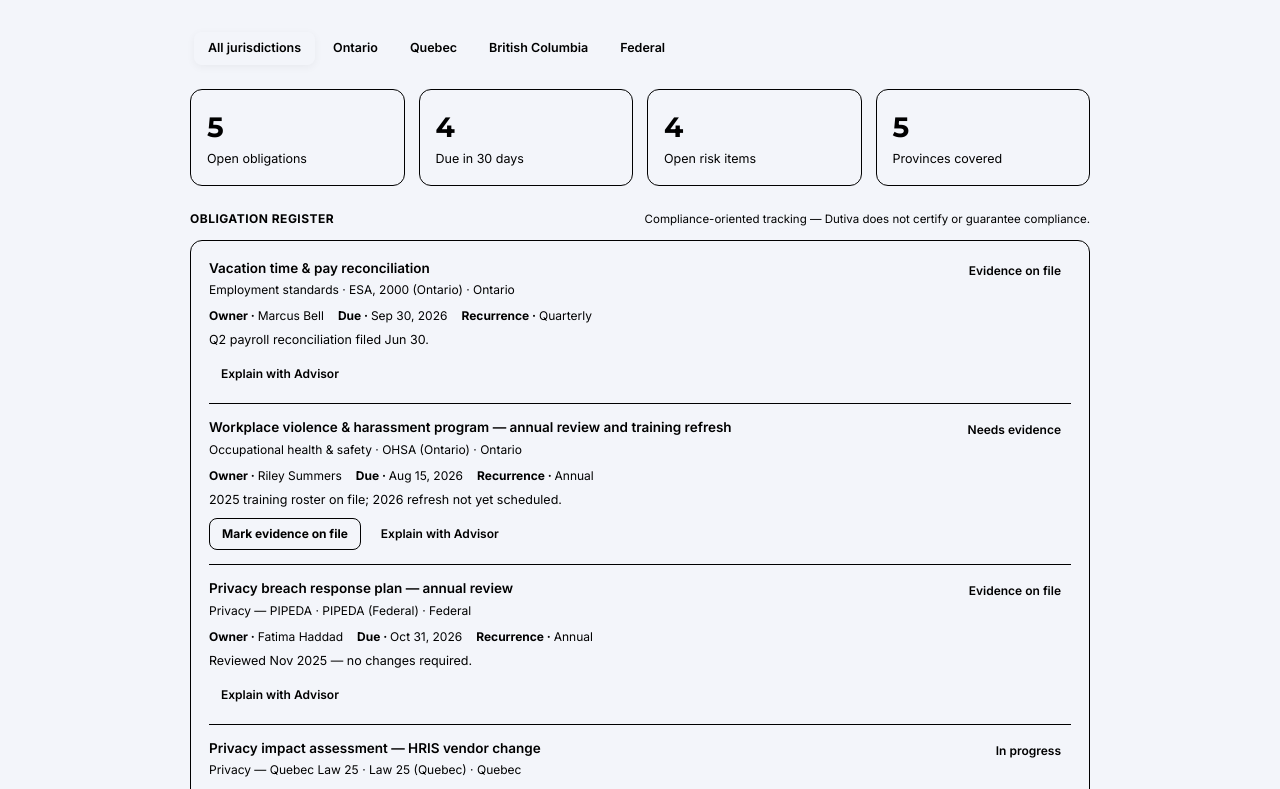
Test: ComplianceView › opens the Advisor rail from "Explain with Advisor" on an obligation
This screenshot has width=1280, height=789.
Click the button "Explain with Advisor" below "Q2 payroll reconciliation filed Jun 30." at (280, 374), box [209,359,351,389]
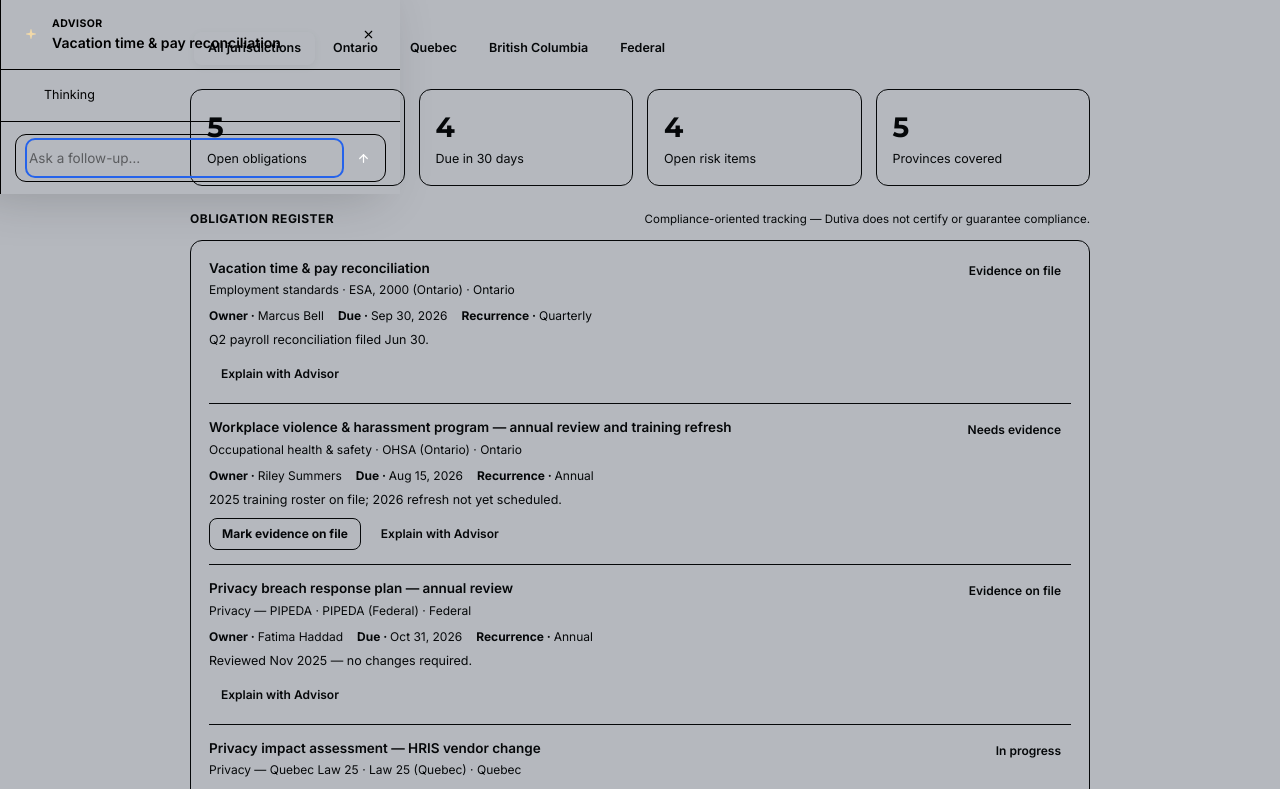
Result: the text "Vacation time & pay reconciliation" is shown at [52,32,281,53]
